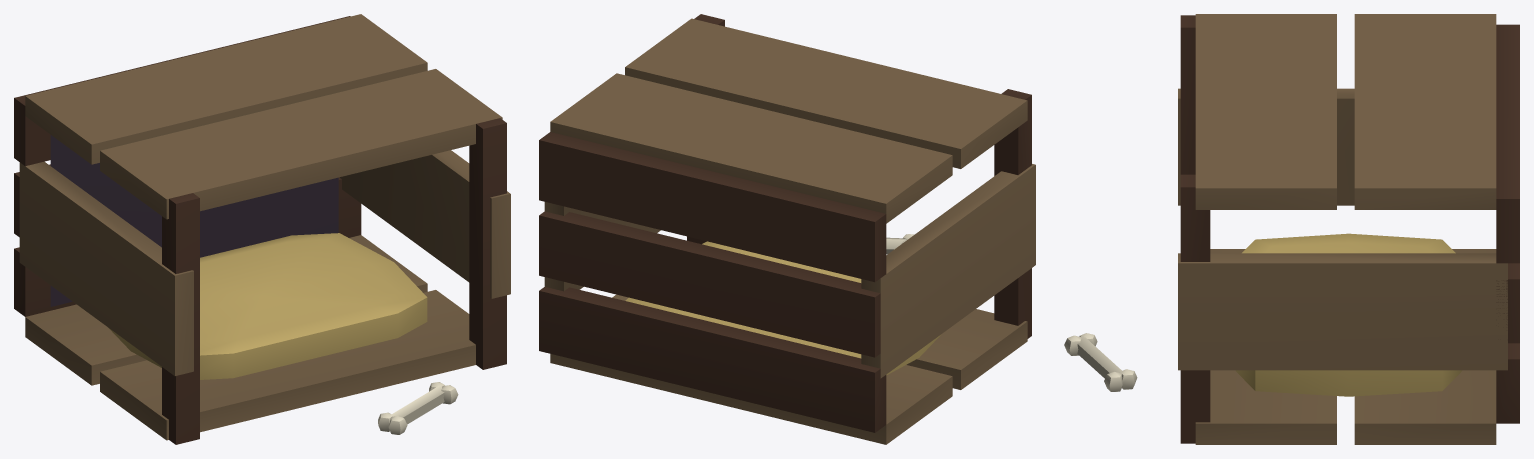
Rendered from den_stray_dog.glb.
The picture shows the model from 3 angles, left to right: view 1: azimuth 30°, elevation 25°; view 2: azimuth 150°, elevation 25°; view 3: azimuth 270°, elevation 25°; orthographic projection. The views are drawn at different scales.
Visible parts, largest first — view 1: den_stray_dog, opening; view 2: den_stray_dog; view 3: den_stray_dog.
Part boxes in pixels (x1=…): den_stray_dog: x1=14, y1=14, x2=510, y2=444; opening: x1=50, y1=135, x2=338, y2=306; den_stray_dog: x1=539, y1=14, x2=1035, y2=444; den_stray_dog: x1=1064, y1=14, x2=1519, y2=444.
Bounding box in the file's own units: 0.7 × 0.48 × 0.7729.
